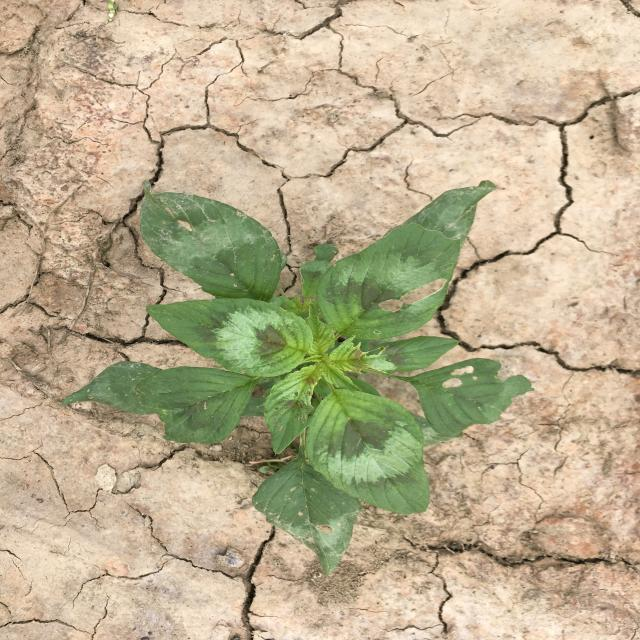PalmerAmaranth: (61, 180, 537, 576)
